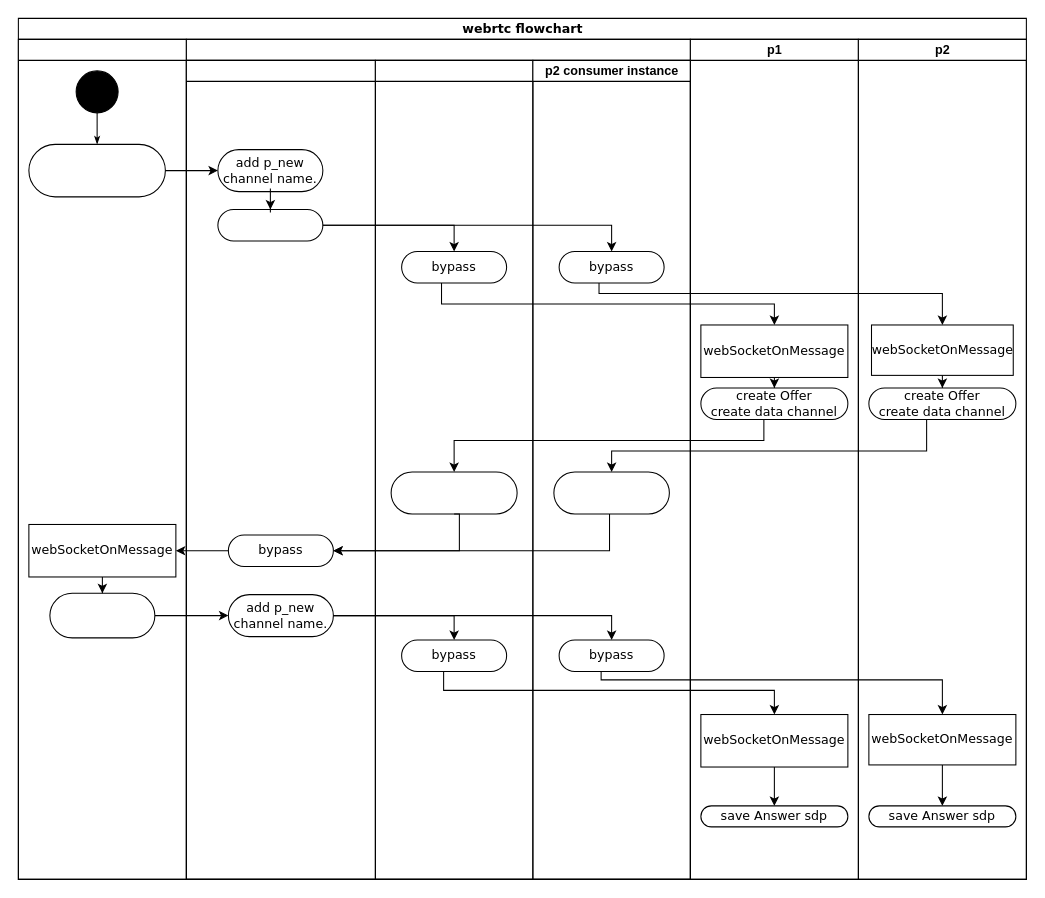
The diagram is 1045 pixels wide and 898 high, and some of its shapes have lost their labels. Each missing label, with the box of its shape:
add p1 channel name.: (390, 471, 517, 514)
add p2 channel name.: (553, 471, 669, 514)
broadcast: (217, 208, 323, 241)
Django server channel layer: (185, 38, 690, 879)
p1 consumer instance: (374, 59, 533, 879)
p_new: (17, 38, 186, 879)
p_new consumer instance: (185, 59, 375, 879)
save Offer sdp create Answer: (49, 592, 155, 638)
{"action": "new-peer"}: (28, 143, 165, 197)
